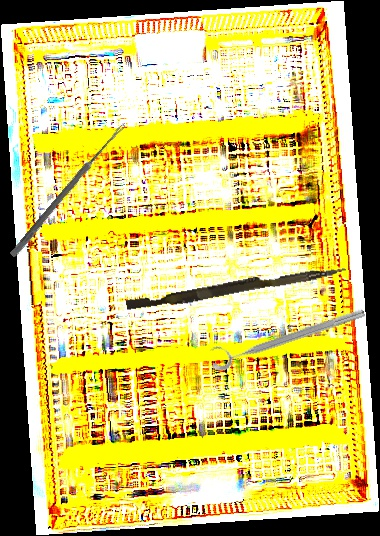Fixation Ring: (205, 295, 368, 374)
Pusher: (125, 257, 347, 317)
Surgical Spoon: (9, 121, 127, 259)
